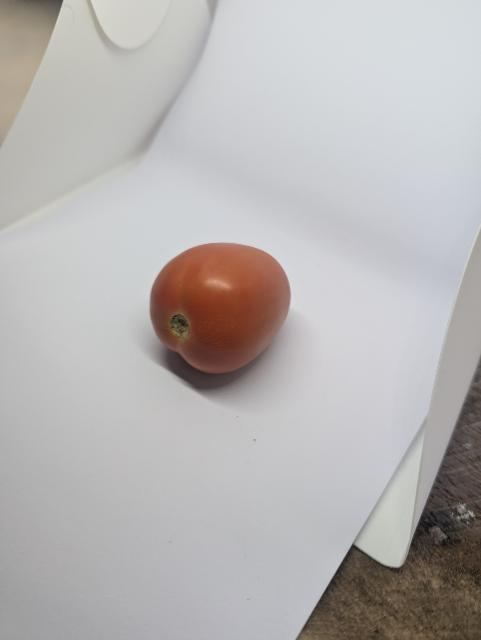red: (139, 230, 298, 395)
